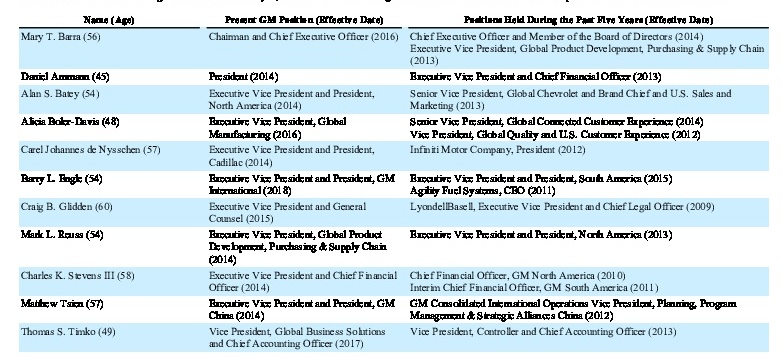table: (0, 0, 782, 363)
